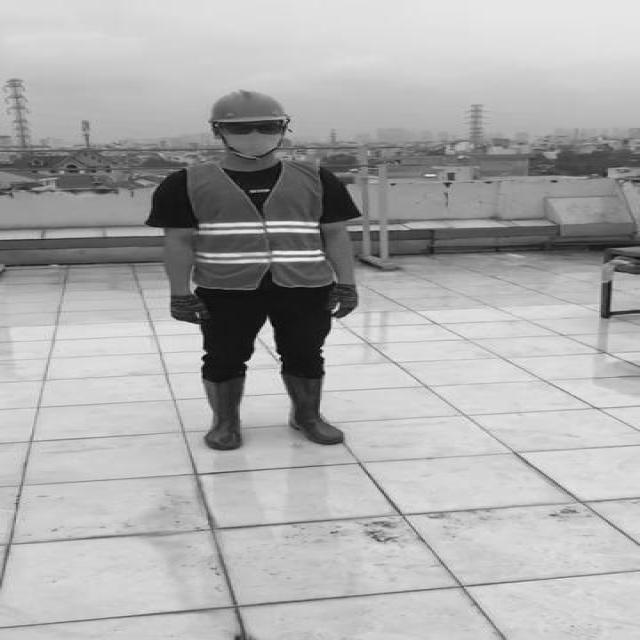boots: (283, 374, 350, 446), (199, 378, 245, 450)
face_mask: (223, 118, 289, 156)
glasses: (220, 118, 284, 138)
hand_glove: (167, 295, 210, 328), (329, 286, 363, 316)
head_helmet: (204, 88, 290, 125)
person: (147, 86, 376, 460)
vest: (185, 158, 336, 291)
